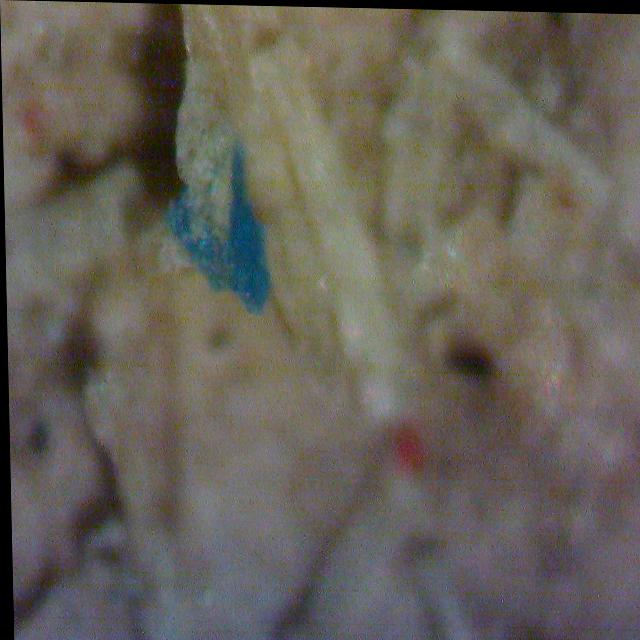microplastic: (148, 136, 278, 326)
